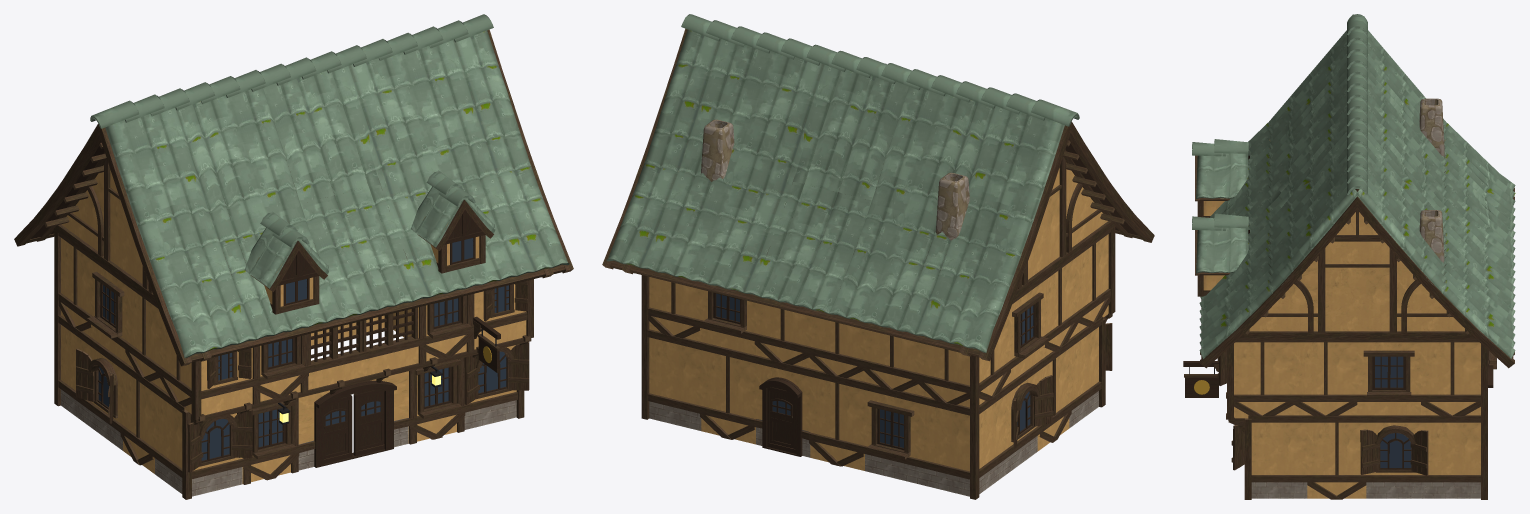
File: tavern.glb
The picture shows the model from 3 angles, left to right: view 1: azimuth 30°, elevation 25°; view 2: azimuth 150°, elevation 25°; view 3: azimuth 270°, elevation 25°; orthographic projection. The views are drawn at different scales.
Parts seen in each view (by area): view 1: Roof_RoundTiles_8x10.088, Roof_Front_Brick8.089, Roof_Dormer_RoundTile.091, Roof_Dormer_RoundTile.092, Wall_Plaster_Straight.028, Wall_Plaster_WoodGrid+upper.061, Wall_Plaster_WoodGrid+upper.060, Wall_Plaster_Straight+upper.077, Wall_Plaster_Straight+upper.074, Wall_Plaster_Straight_Base.029, Wall_Plaster_Door_Round.006, DoorFrame_Round_WoodDark.007 (+32 smaller); view 2: Roof_RoundTiles_8x10.088, Roof_Front_Brick8.089, Wall_Plaster_Straight.016, Wall_Plaster_Straight.020, Wall_Plaster_Straight_Base.015, Wall_Plaster_Straight_Base.023, Wall_Plaster_Window_Wide_Flat.021, Wall_Plaster_Straight+upper.072, Wall_Plaster_Straight+upper.070, Wall_Plaster_Straight+upper.071, Wall_Plaster_Straight+upper.067, Wall_Plaster_Straight+upper.077 (+22 smaller); view 3: Roof_RoundTiles_8x10.088, Roof_Front_Brick8.090, Wall_Plaster_Straight+upper.080, Wall_Plaster_Straight_Base.030, Wall_Plaster_Straight.031, Wall_Plaster_Straight+upper.079, Wall_Plaster_Straight+upper.083, Wall_Plaster_Straight_Base.035, Roof_Dormer_RoundTile.092, Roof_Dormer_RoundTile.091, Wall_Plaster_Window_Wide_Flat+upper.081, Wall_Plaster_Window_Wide_Round.032 (+11 smaller).
Part boxes in pixels (left/top/right/bottom): Roof_RoundTiles_8x10.088: left=14, top=14, right=573, bottom=366; Roof_Front_Brick8.089: left=44, top=142, right=156, bottom=304; Roof_Dormer_RoundTile.091: left=244, top=211, right=328, bottom=314; Roof_Dormer_RoundTile.092: left=411, top=170, right=495, bottom=273; Wall_Plaster_Straight.028: left=120, top=360, right=154, bottom=473; Wall_Plaster_WoodGrid+upper.061: left=362, top=307, right=419, bottom=376; Wall_Plaster_WoodGrid+upper.060: left=308, top=321, right=364, bottom=389; Wall_Plaster_Straight+upper.077: left=125, top=282, right=161, bottom=388; Wall_Plaster_Straight+upper.074: left=58, top=233, right=93, bottom=338; Wall_Plaster_Straight_Base.029: left=152, top=384, right=186, bottom=493; Wall_Plaster_Door_Round.006: left=298, top=371, right=409, bottom=470; DoorFrame_Round_WoodDark.007: left=314, top=380, right=396, bottom=467; Roof_RoundTiles_8x10.088: left=602, top=14, right=1154, bottom=361; Roof_Front_Brick8.089: left=1013, top=140, right=1124, bottom=300; Wall_Plaster_Straight.016: left=699, top=342, right=755, bottom=444; Wall_Plaster_Straight.020: left=809, top=368, right=864, bottom=470; Wall_Plaster_Straight_Base.015: left=647, top=329, right=701, bottom=430; Wall_Plaster_Straight_Base.023: left=918, top=395, right=969, bottom=496; Wall_Plaster_Window_Wide_Flat.021: left=863, top=382, right=919, bottom=484; Wall_Plaster_Straight+upper.072: left=863, top=329, right=919, bottom=395; Wall_Plaster_Straight+upper.070: left=754, top=303, right=810, bottom=368; Wall_Plaster_Straight+upper.071: left=809, top=316, right=864, bottom=381; Wall_Plaster_Straight+upper.067: left=647, top=277, right=701, bottom=341; Wall_Plaster_Straight+upper.077: left=1042, top=253, right=1078, bottom=358; Roof_RoundTiles_8x10.088: left=1199, top=14, right=1515, bottom=368; Roof_Front_Brick8.090: left=1239, top=210, right=1475, bottom=339; Wall_Plaster_Straight+upper.080: left=1294, top=339, right=1357, bottom=416; Wall_Plaster_Straight_Base.030: left=1248, top=415, right=1307, bottom=498; Wall_Plaster_Straight.031: left=1307, top=415, right=1366, bottom=499; Wall_Plaster_Straight+upper.079: left=1234, top=339, right=1293, bottom=418; Wall_Plaster_Straight+upper.083: left=1421, top=339, right=1480, bottom=416; Wall_Plaster_Straight_Base.035: left=1425, top=415, right=1480, bottom=498; Roof_Dormer_RoundTile.092: left=1192, top=213, right=1249, bottom=296; Roof_Dormer_RoundTile.091: left=1192, top=139, right=1249, bottom=217; Wall_Plaster_Window_Wide_Flat+upper.081: left=1357, top=339, right=1420, bottom=415; Wall_Plaster_Window_Wide_Round.032: left=1366, top=415, right=1425, bottom=498.
Bounding box in the file's own units: 14.23 × 12.14 × 11.24.
10 materials, 6 textured.
